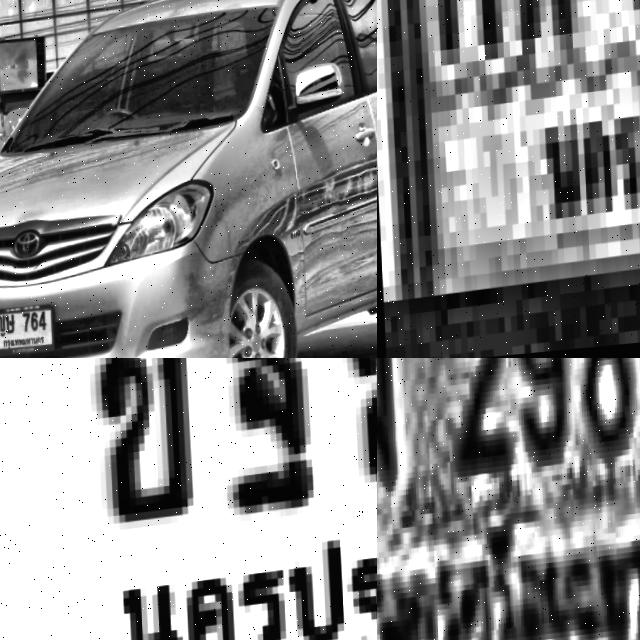license-plate: (0, 358, 377, 640), (377, 0, 640, 358), (377, 358, 640, 640), (0, 300, 56, 358)
